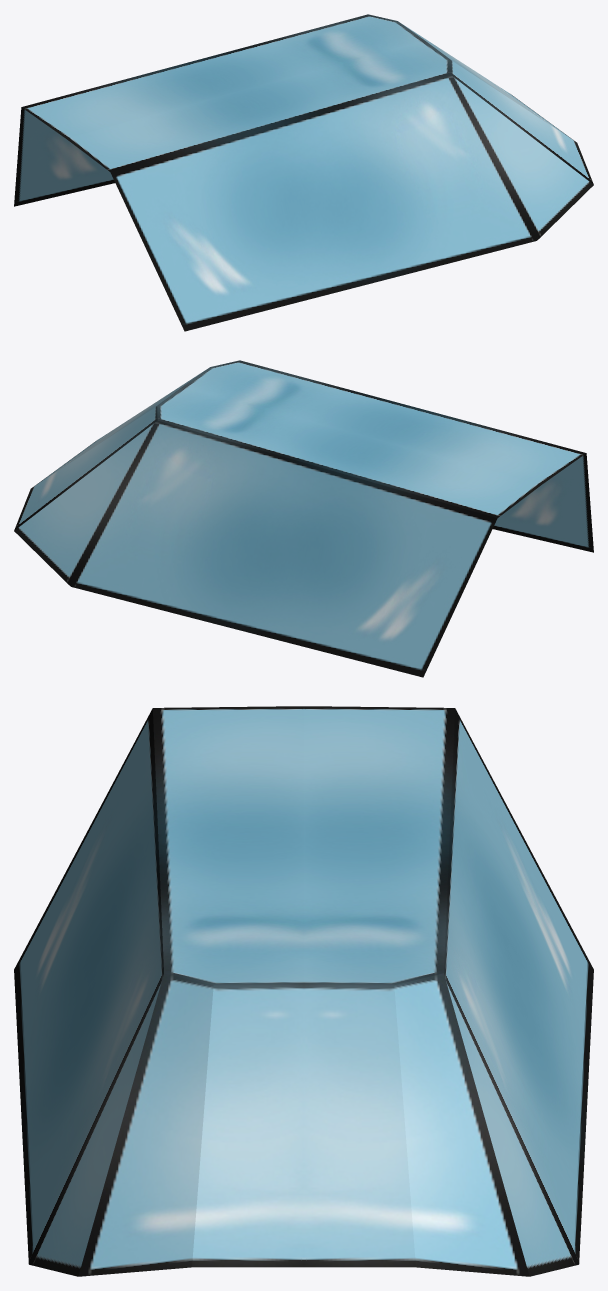
Rendered from Glass.FBX.
The picture shows the model from 3 angles, top to bottom: view 1: azimuth 30°, elevation 25°; view 2: azimuth 150°, elevation 25°; view 3: azimuth 270°, elevation 25°; orthographic projection. The views are drawn at different scales.
Visible parts, largest first — view 1: Glass; view 2: Glass; view 3: Glass.
Part boxes in pixels (x1,y1,x2,y2): Glass: (14,14,593,331); Glass: (14,360,593,677); Glass: (14,706,593,1276).
Bounding box in the file's own units: 43.61 × 13.02 × 26.94.
